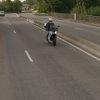Motorcycle: (38, 21, 68, 55)
